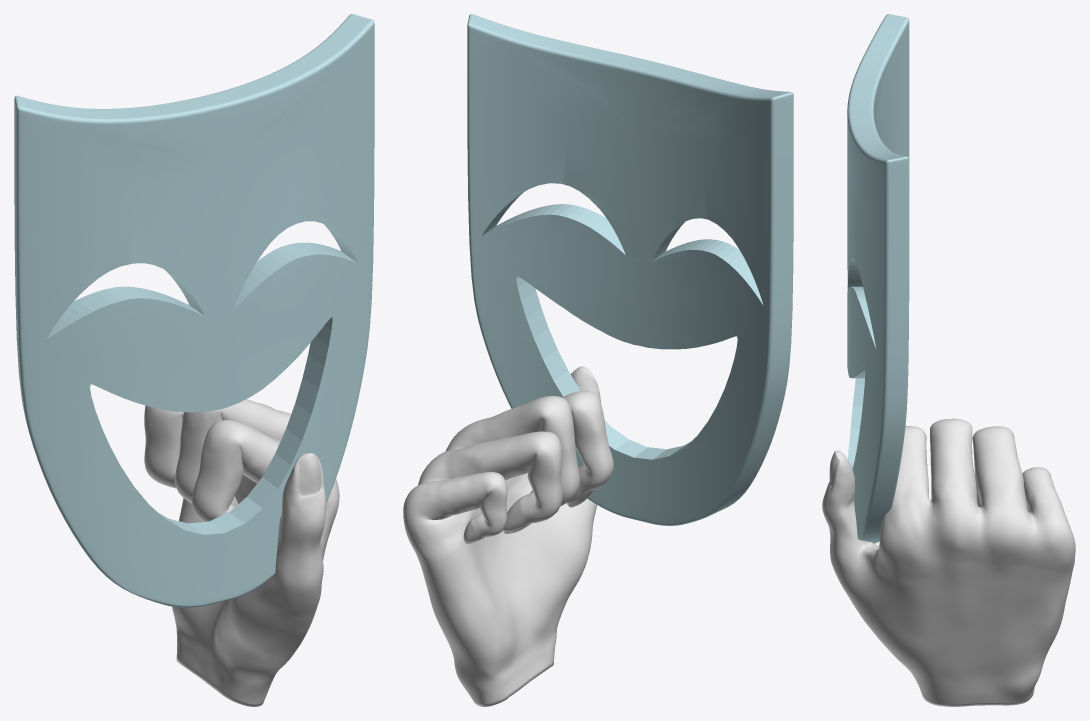
Rendered from smile_mask.glb.
3 renders of one model, left to right at view 1: azimuth 30°, elevation 25°; view 2: azimuth 150°, elevation 25°; view 3: azimuth 270°, elevation 25°, orthographic. The views are drawn at different scales.
Parts seen in each view (by area): view 1: Smile, RightHand; view 2: Smile, RightHand; view 3: RightHand, Smile.
Boxes of the visible parts, x1=… form: Smile: x1=14, y1=14, x2=374, y2=607; RightHand: x1=144, y1=399, x2=339, y2=706; Smile: x1=467, y1=14, x2=793, y2=525; RightHand: x1=403, y1=366, x2=613, y2=706; RightHand: x1=822, y1=418, x2=1075, y2=706; Smile: x1=847, y1=14, x2=909, y2=543.
Bounding box in the file's own units: 2.63 × 4.79 × 1.9.
